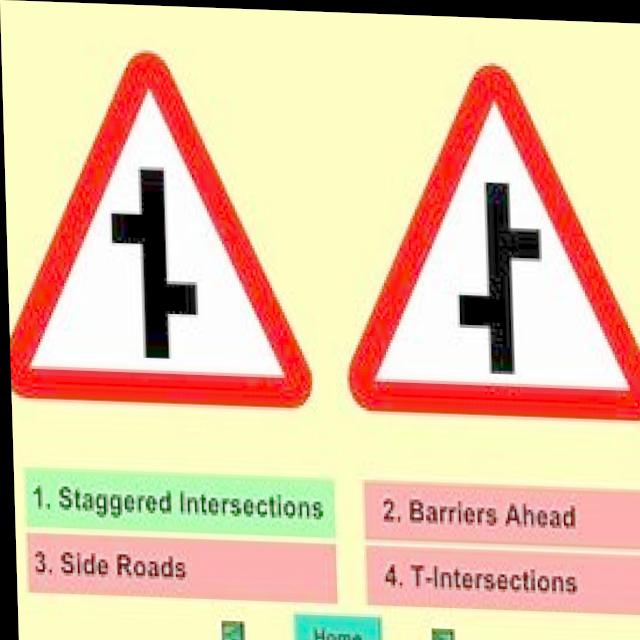STAGGERED_INTERSECTION: (1, 33, 320, 419), (330, 55, 640, 429)
